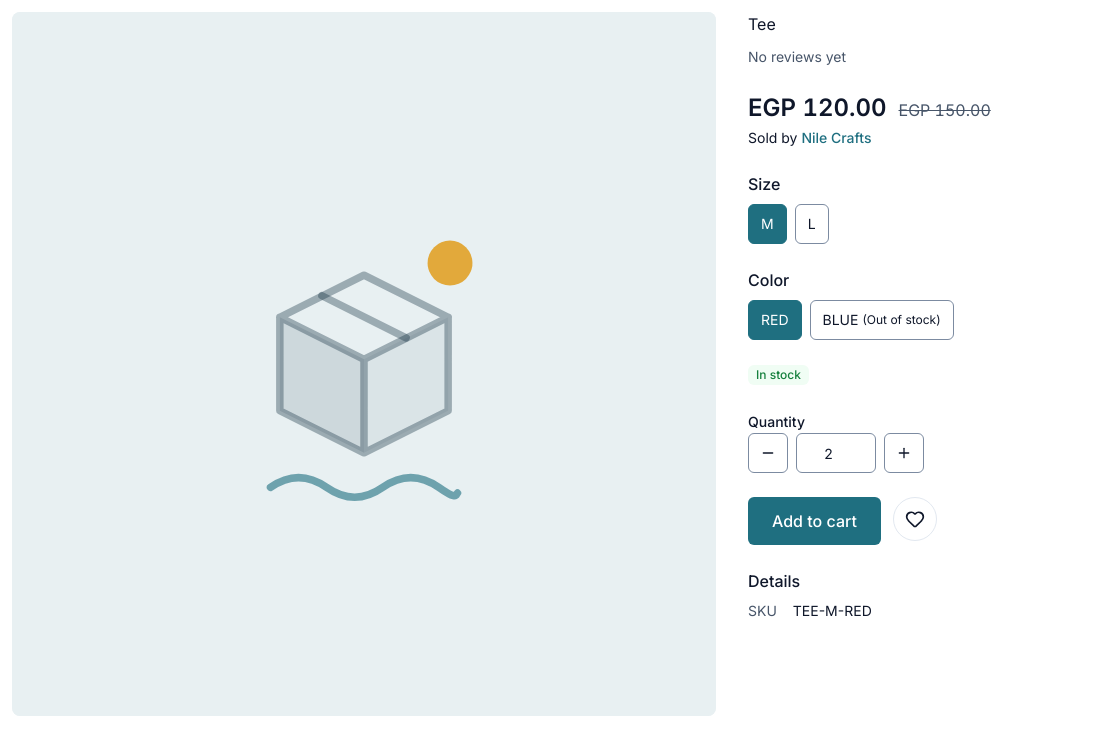
product page (spec 01 SF-05) › signed in: adds the selected variant and quantity, then offers "View cart"
Click the button "Add to cart".
click(814, 521)  # box [748,497,881,545]
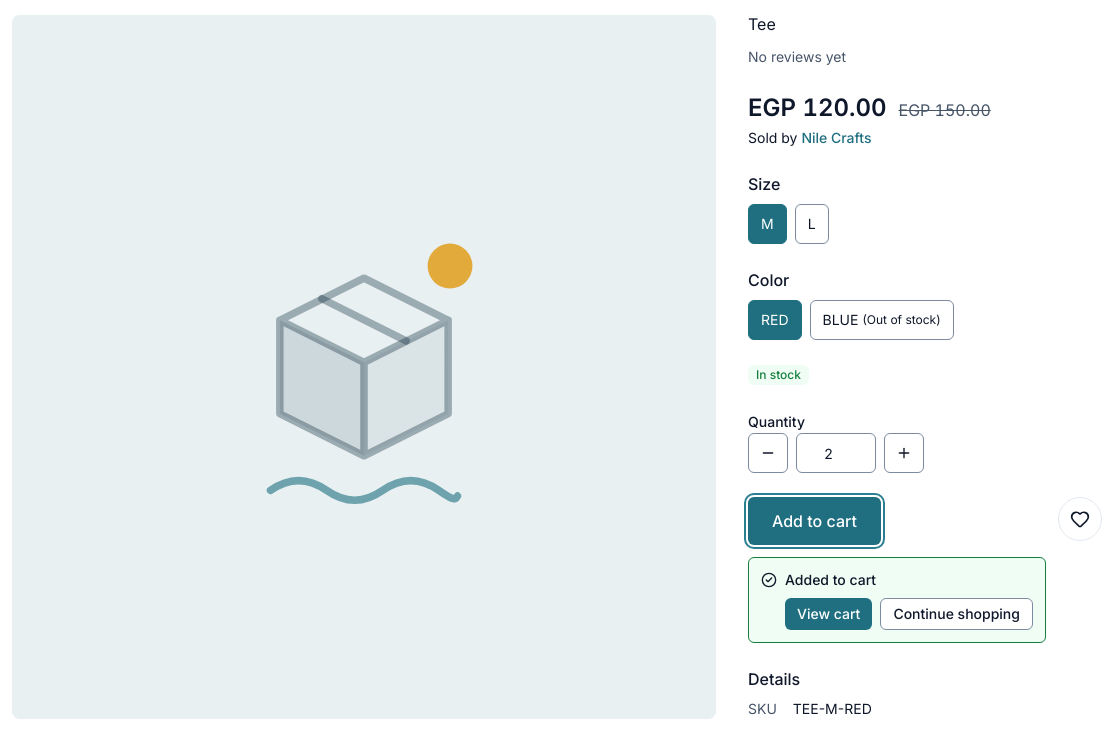
Now the text "Added to cart" is shown, box [785,571,876,588]
